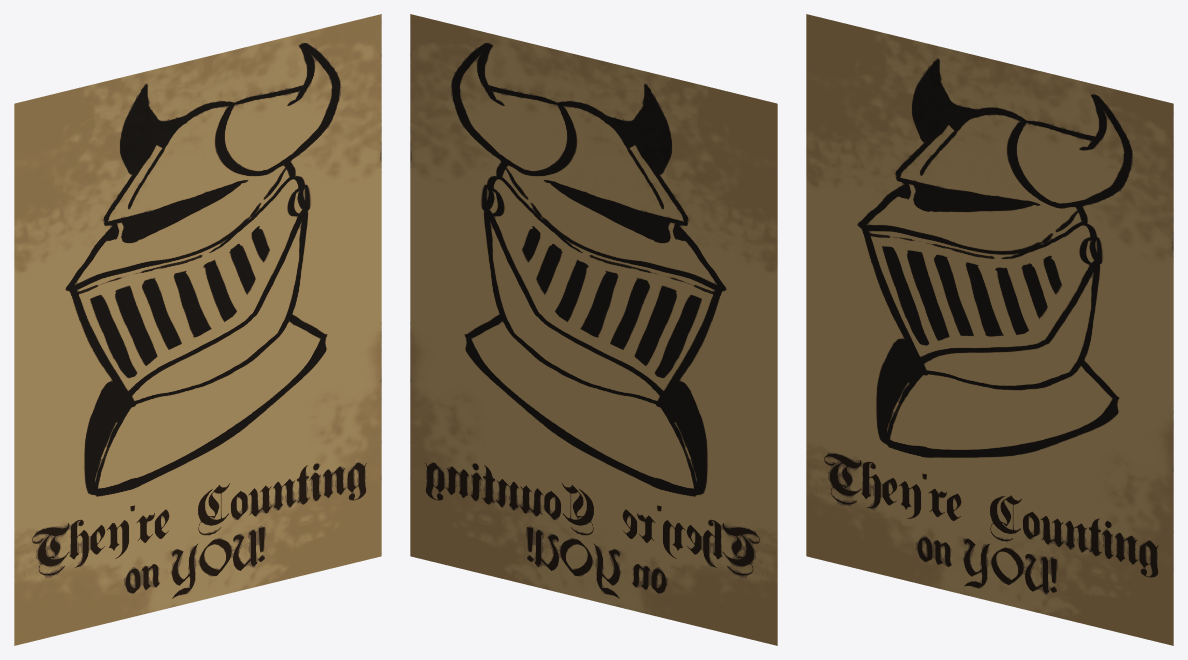
Rendered from poster1_flat.fbx.
3 views of the same model, side by side, from view 1: azimuth 30°, elevation 25°; view 2: azimuth 150°, elevation 25°; view 3: azimuth 330°, elevation 25° (orthographic).
Visible parts, largest first — view 1: flatposter2; view 2: flatposter2; view 3: flatposter2.
Part boxes in pixels (<box>): flatposter2: <box>14,14,381,645</box>; flatposter2: <box>410,14,777,645</box>; flatposter2: <box>806,14,1173,645</box>.
Size of the model in its own units: 22.16 by 31.24 by 3.01e-15.
